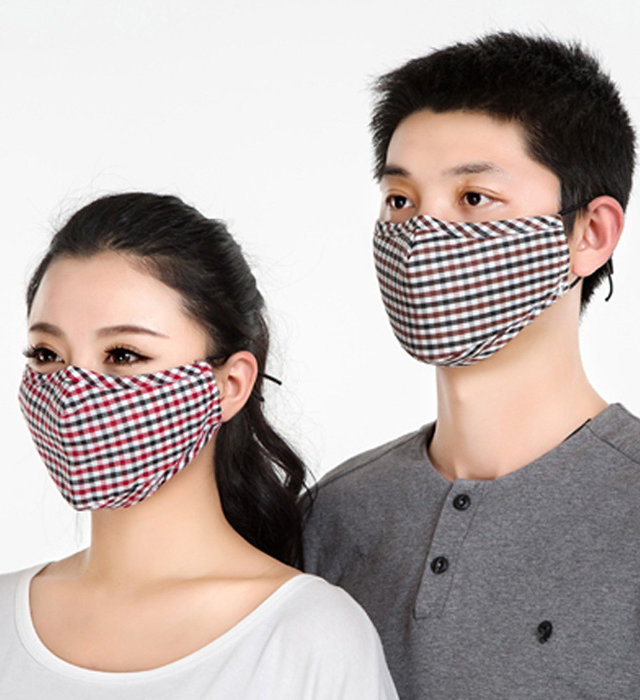face_mask: (377, 107, 565, 354), (21, 264, 205, 508)
